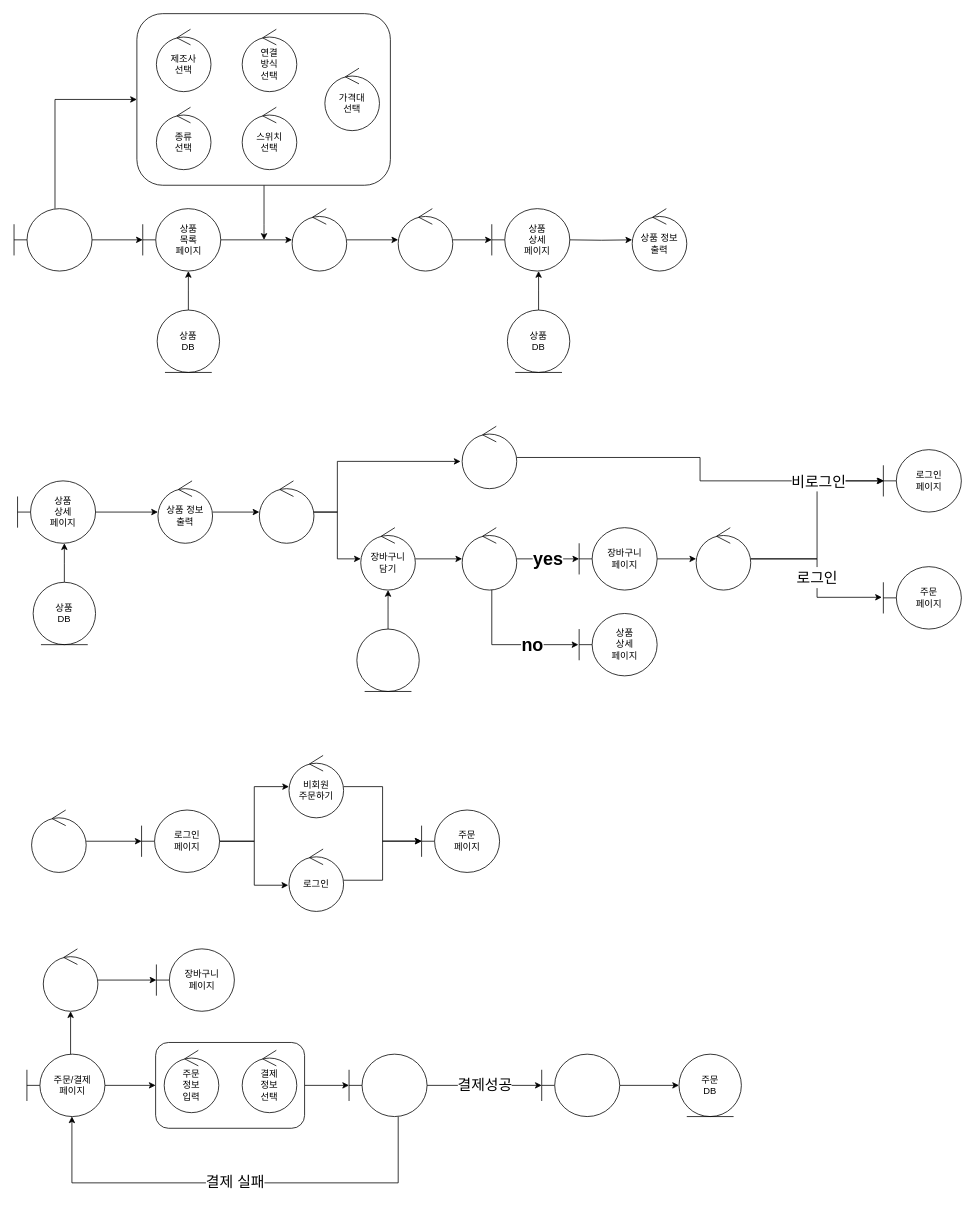
Some shapes in this 975 by 1205 pixel diagram are drawn without their labels. The shapes that lost their labels are listed below. From the top down, each one's centre as x and y in pixels, then its label:
(52,239): 메인 화면
(319,239): 상품 출력
(425,239): 상품 선택
(489,457): 바로 구매
(286,511): 수량 선택
(489,558): 확인
(723,558): 주문하기
(387,659): 장바구니 DB
(58,840): 비로그인 주무
(70,979): 장바구니 돌아가기
(387,1085): 결제 페이지
(580,1085): 결제 완료 페이지
